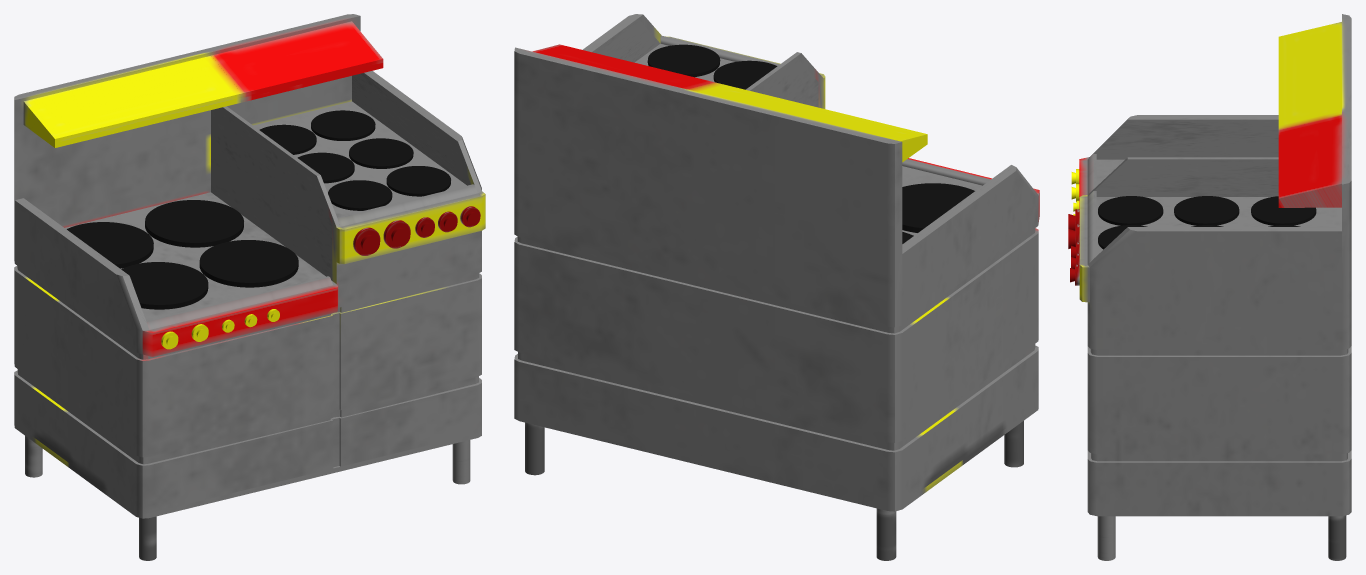
File: Industrial Stove.fbx
3 renders of one model, left to right at view 1: azimuth 30°, elevation 25°; view 2: azimuth 150°, elevation 25°; view 3: azimuth 270°, elevation 25°, orthographic. The views are drawn at different scales.
Parts seen in each view (by area): view 1: Industrial_Stove; view 2: Industrial_Stove; view 3: Industrial_Stove.
Boxes of the visible parts, x1,y1,x2,y2 form: Industrial_Stove: (14, 14, 485, 560); Industrial_Stove: (514, 14, 1039, 560); Industrial_Stove: (1068, 14, 1351, 560).
Bounding box in the file's own units: 17.27 × 17.94 × 12.12.
4 materials, 2 textured.
